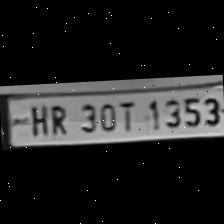0: (94, 98, 118, 133)
1: (139, 96, 161, 132)
3: (72, 98, 98, 134), (160, 94, 182, 130), (199, 93, 221, 126)
5: (179, 92, 201, 128)
H: (24, 101, 48, 137)
R: (43, 100, 70, 136)
T: (116, 96, 138, 132)
